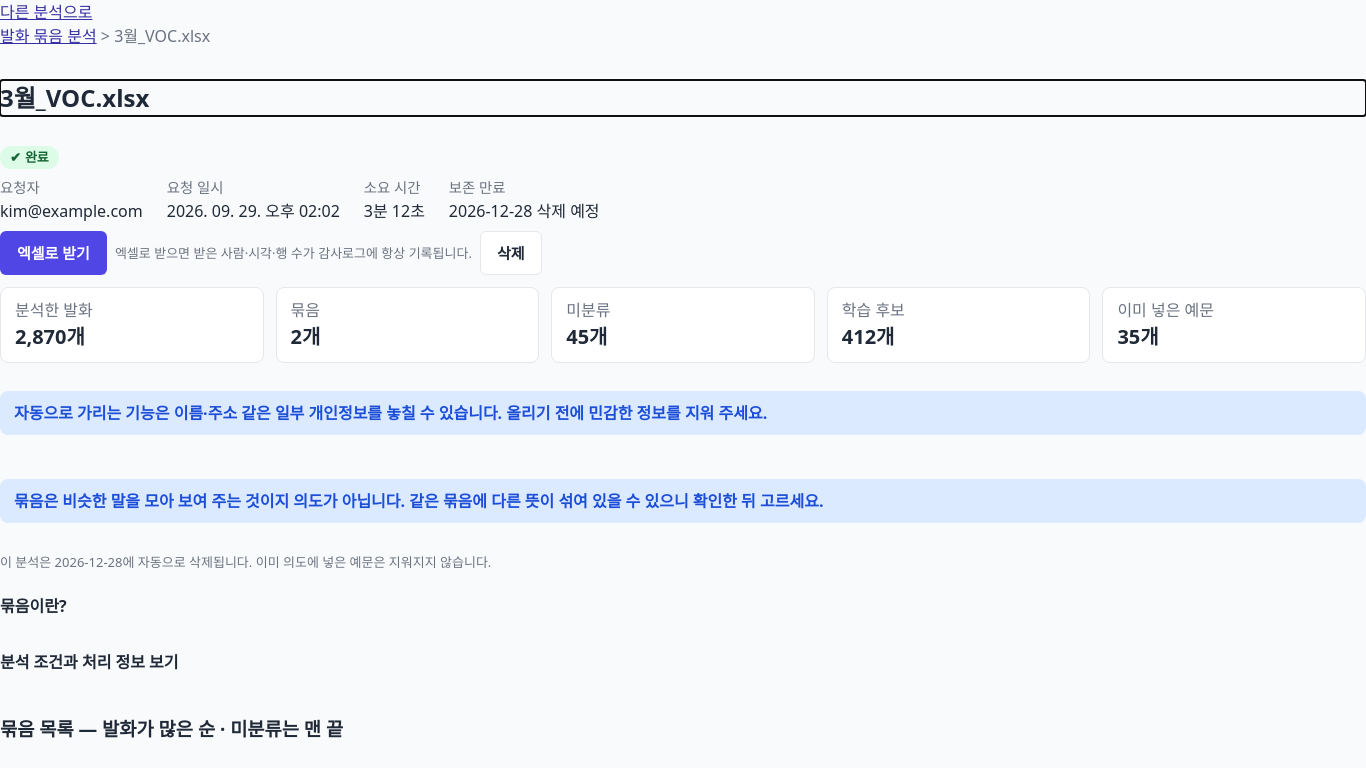
Test: UtteranceAnalysisDetailPage — 취소·삭제 확인(UA-3b) › 상세 삭제: 취소 정리 중 409는 전용 문구로 열린 채 남고, 처리 중 삭제 409의 기존 문구는 유지된다
Click the button "삭제". click: (511, 253)
box: [480, 231, 542, 275]
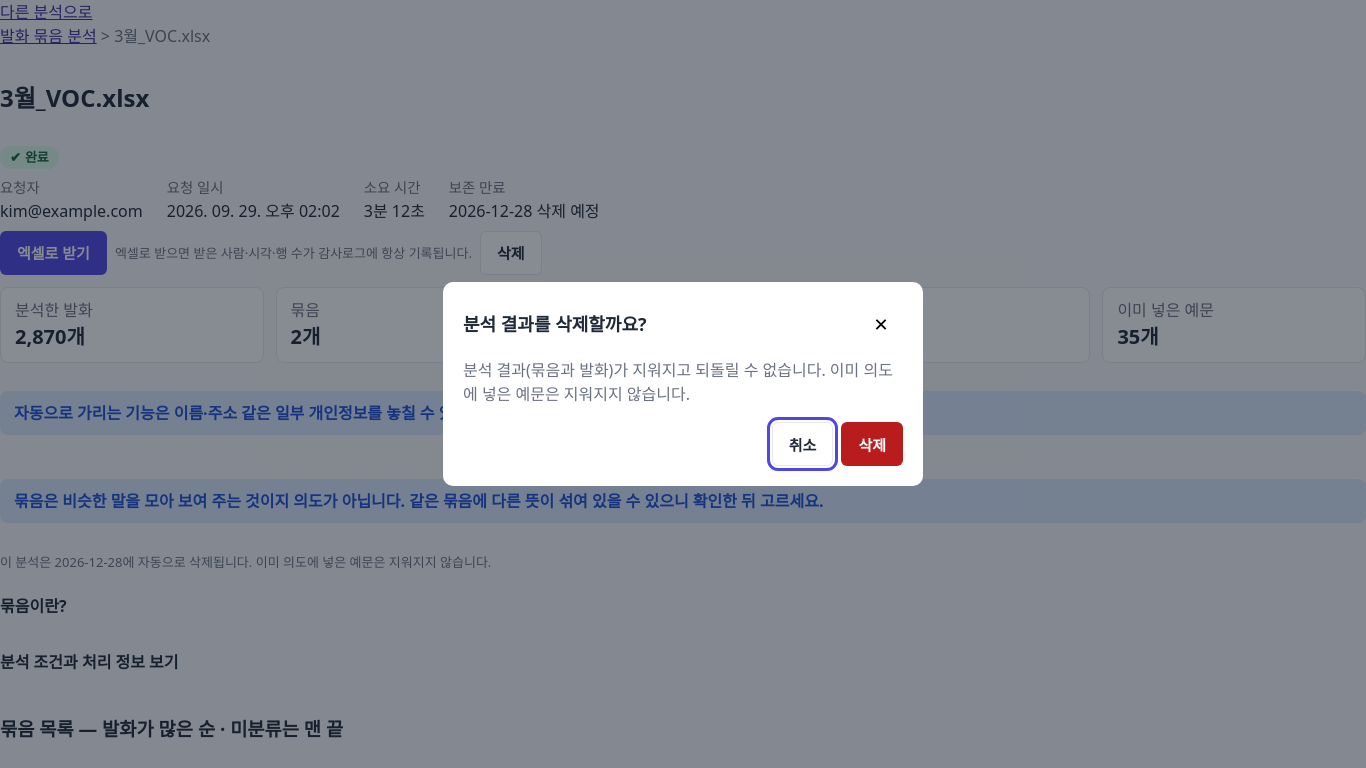
Click the button "삭제". click: (872, 444)
box: [841, 422, 903, 466]
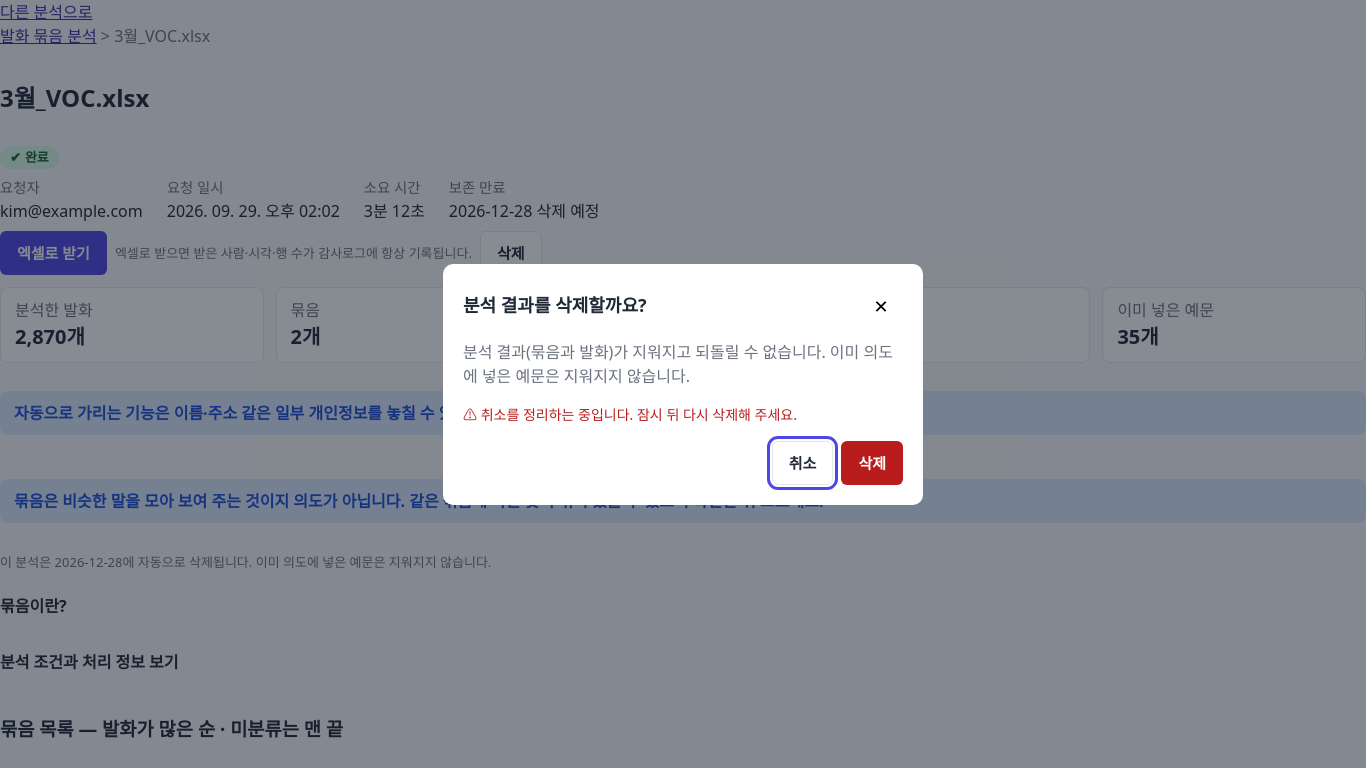
Expected: the message shows "취소를 정리하는 중입니다. 잠시 뒤 다시 삭제해 주세요.", [481, 404, 797, 424]
Click the button "삭제". click: (872, 462)
box: [841, 440, 903, 484]
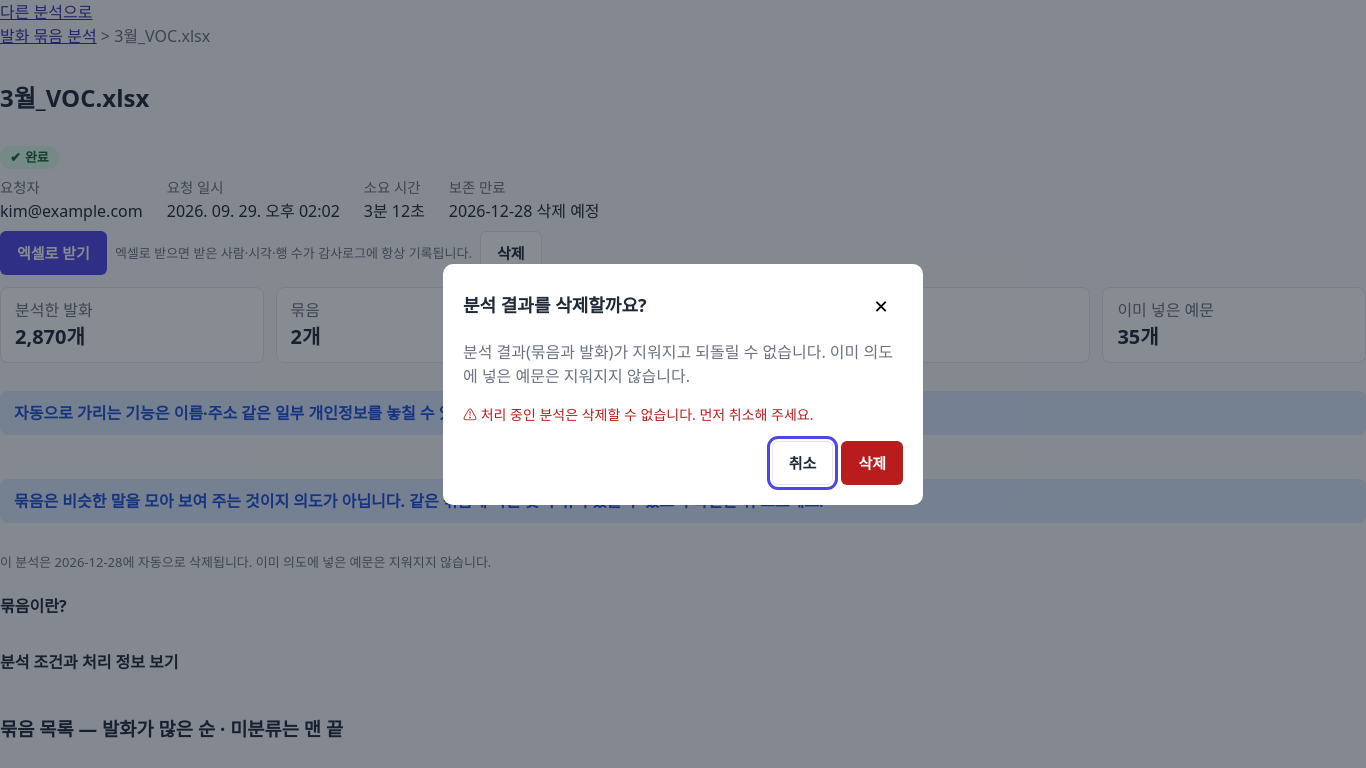
Expected: the dialog is shown, [443, 264, 923, 504]
Expected: the message shows "처리 중인 분석은 삭제할 수 없습니다. 먼저 취소해 주세요.", [481, 404, 814, 424]
